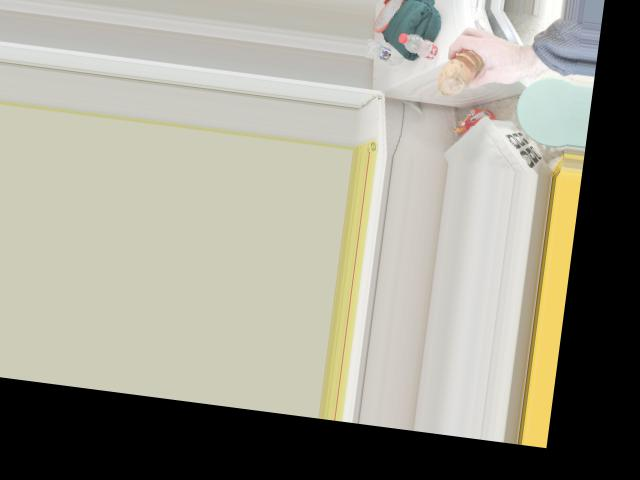sweet_potato: (434, 49, 484, 98)
